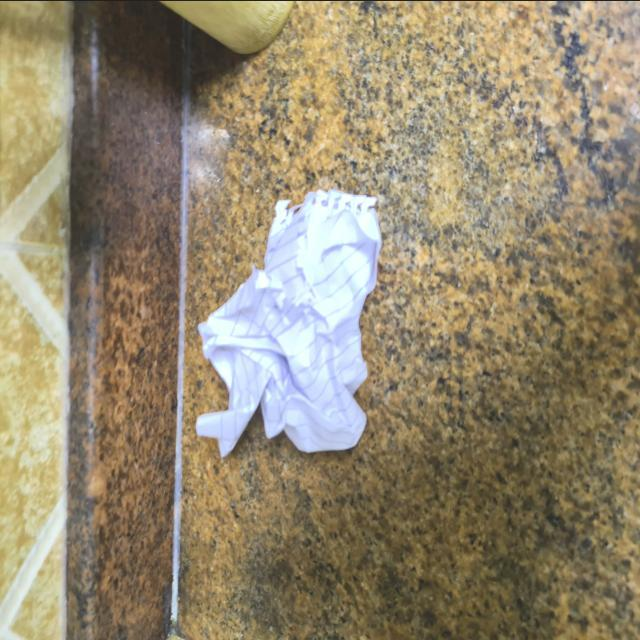Paper: (147, 160, 421, 480)
